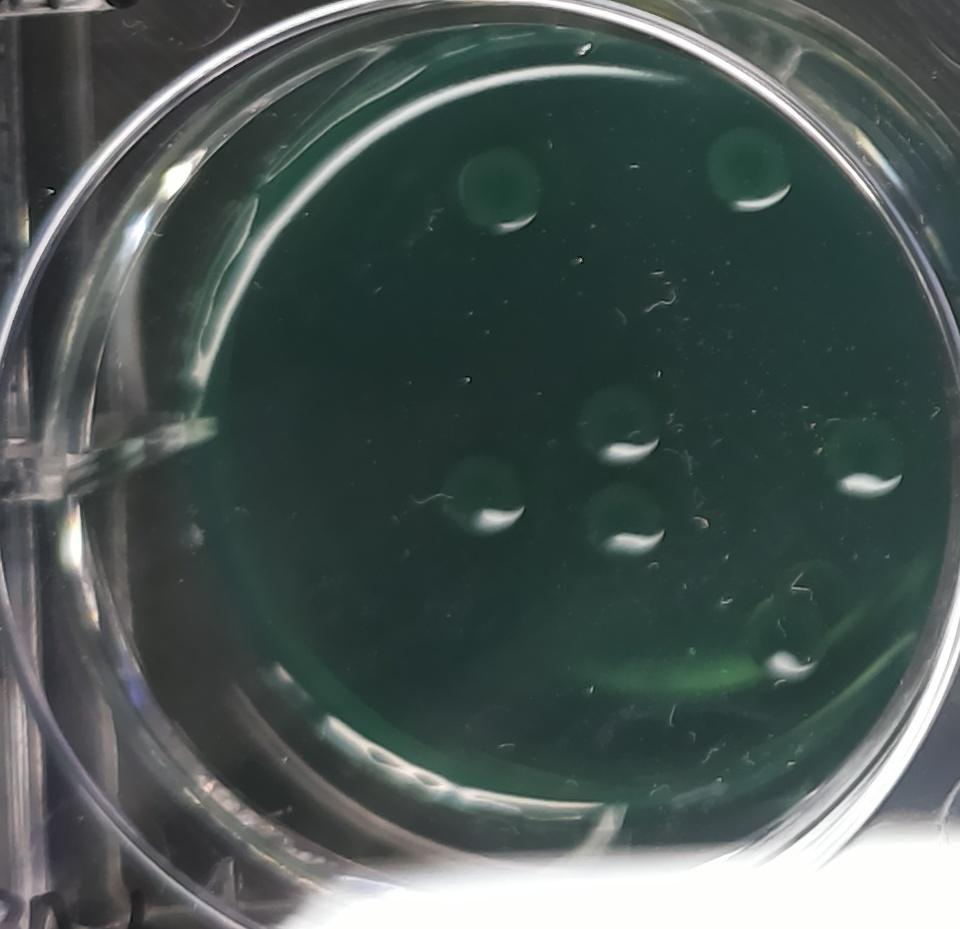vproteolyticus: (452, 134, 550, 242), (696, 119, 795, 220), (812, 411, 912, 507), (570, 376, 668, 472), (433, 446, 530, 542), (739, 583, 834, 678), (579, 477, 670, 567)
